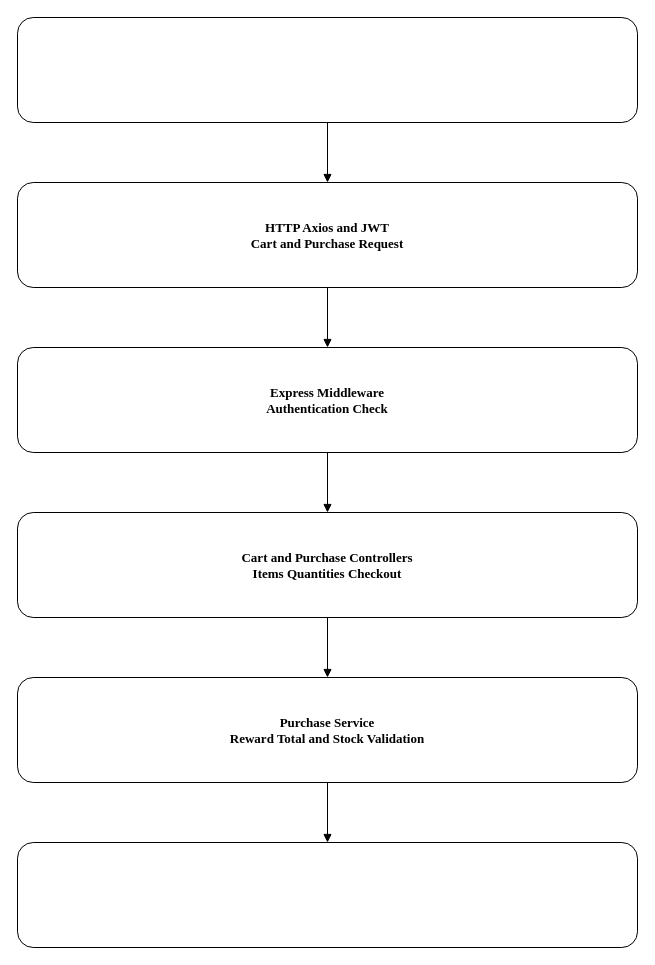
This 655x965 diagram has some shape labels left out. The shapes that lost their labels are listed below. From the top down, each one's centre as x and y in pixels, then its label:
At point 327,69: "Client React Product Cart and Checkout Pages".
At point 327,895: "SQLite Cart Purchase and Product Tables Cart Purchase and Stock Records".
